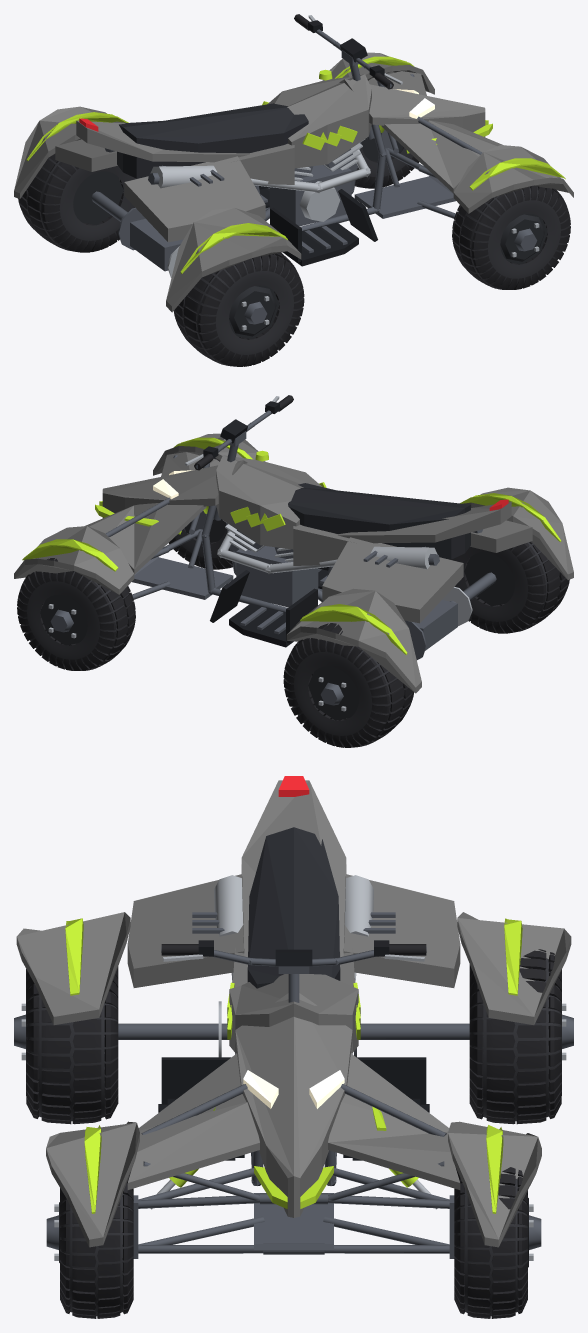
File: quad_venomx.glb
3 views of the same model, one above another, from view 1: azimuth 30°, elevation 25°; view 2: azimuth 150°, elevation 25°; view 3: azimuth 270°, elevation 25° (orthographic). The views are drawn at different scales.
Visible parts, largest first — view 1: front_blade_R, seat_R, front_blade_strut_R, wheel_rear_L_tread, wheel_front_L_tread, wheel_rear_L_sidewall, wheel_front_L_sidewall, front_reservoir_R, wheel_rear_R_tread, front_blade_stripe_R, wheel_rear_R_sidewall, swingarm (+11 smaller); view 2: front_blade_R, front_blade_strut_R, seat_R, wheel_rear_R_tread, wheel_front_R_tread, front_blade_stripe_R, wheel_rear_R_sidewall, wheel_front_R_sidewall, wheel_rear_L_tread, front_reservoir_R, wheel_rear_L_sidewall, swingarm (+12 smaller); view 3: front_blade_R, seat_R, wheel_rear_R_tread, wheel_rear_L_tread, front_blade_strut_R, wheel_front_R_tread, wheel_front_L_tread, front_blade_stripe_R, front_reservoir_hose_R, swingarm, front_reservoir_R, wheel_rear_R_sidewall (+11 smaller).
Part boxes in pixels (bbox=[...]): front_blade_R: bbox=[14, 52, 573, 312]; seat_R: bbox=[117, 103, 308, 178]; front_blade_strut_R: bbox=[105, 74, 482, 253]; wheel_rear_L_tread: bbox=[173, 252, 304, 366]; wheel_front_L_tread: bbox=[452, 185, 570, 289]; wheel_rear_L_sidewall: bbox=[182, 254, 301, 363]; wheel_front_L_sidewall: bbox=[457, 187, 568, 287]; front_reservoir_R: bbox=[150, 139, 370, 221]; wheel_rear_R_tread: bbox=[18, 154, 123, 252]; front_blade_stripe_R: bbox=[26, 56, 565, 273]; wheel_rear_R_sidewall: bbox=[24, 157, 138, 248]; swingarm: bbox=[91, 191, 269, 271]; front_blade_R: bbox=[14, 433, 573, 693]; front_blade_strut_R: bbox=[105, 455, 482, 634]; seat_R: bbox=[288, 483, 470, 559]; wheel_rear_R_tread: bbox=[283, 623, 413, 747]; wheel_front_R_tread: bbox=[17, 558, 135, 670]; front_blade_stripe_R: bbox=[22, 437, 561, 654]; wheel_rear_R_sidewall: bbox=[286, 640, 405, 744]; wheel_front_R_sidewall: bbox=[19, 571, 130, 668]; wheel_rear_L_tread: bbox=[464, 541, 569, 633]; front_reservoir_R: bbox=[217, 520, 437, 573]; wheel_rear_L_sidewall: bbox=[449, 542, 563, 629]; swingarm: bbox=[318, 572, 496, 659]; front_blade_R: bbox=[16, 780, 571, 1247]; seat_R: bbox=[247, 827, 340, 988]; wheel_rear_R_tread: bbox=[469, 949, 561, 1124]; wheel_rear_L_tread: bbox=[26, 966, 118, 1124]; front_blade_strut_R: bbox=[141, 912, 446, 1254]; wheel_front_R_tread: bbox=[454, 1167, 527, 1318]; wheel_front_L_tread: bbox=[60, 1172, 133, 1318]; front_blade_stripe_R: bbox=[65, 918, 522, 1213]; front_reservoir_hose_R: bbox=[161, 1057, 426, 1160]; swingarm: bbox=[118, 1023, 469, 1057]; front_reservoir_R: bbox=[214, 875, 373, 1054]; wheel_rear_R_sidewall: bbox=[469, 958, 561, 1121].
Bounding box in the file's own units: 2.24 × 1.08 × 1.82.
